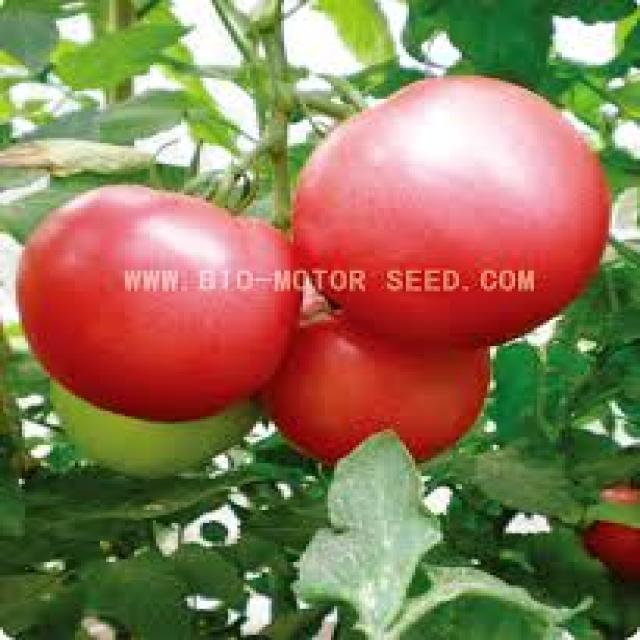Organik: (310, 65, 613, 321), (37, 184, 271, 383), (270, 300, 502, 465)
